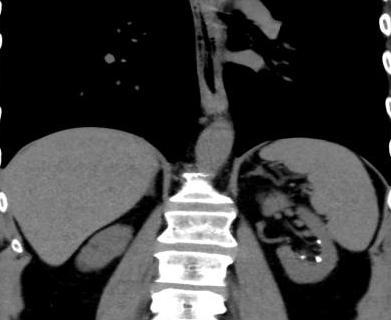Tas_Var: (314, 255, 324, 265), (316, 239, 324, 246), (300, 254, 308, 261)
